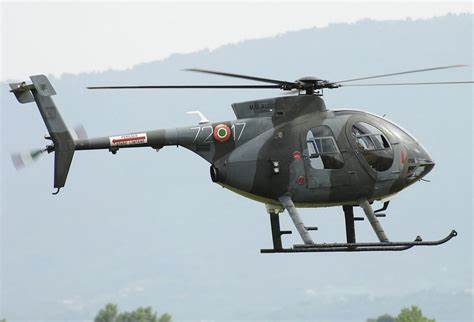Aeronef_militaire: (2, 59, 474, 267)
